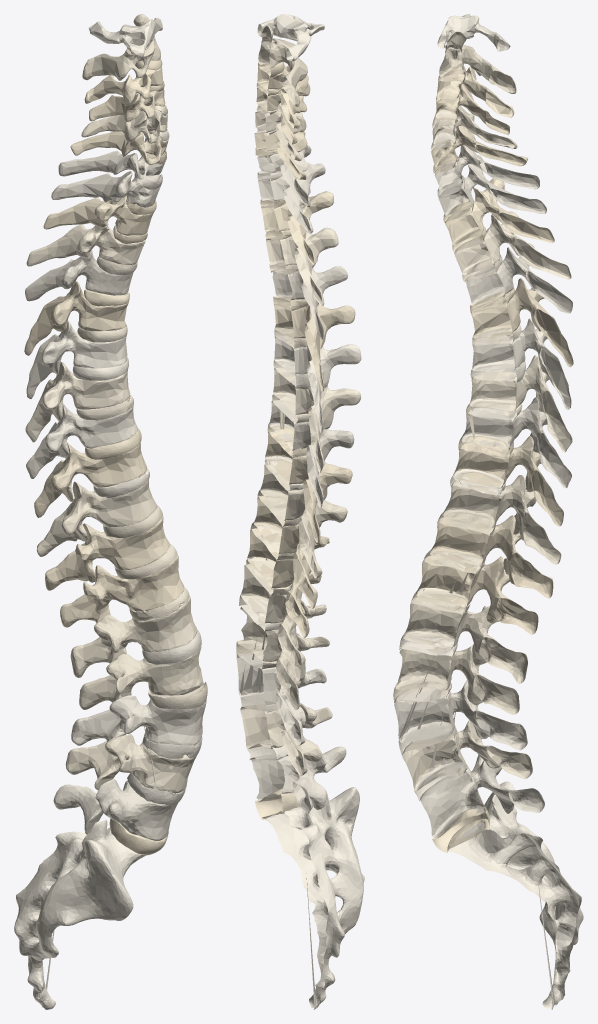
File: colonna_vertebrale_interno.glb
The picture shows the model from 3 angles, left to right: view 1: azimuth 90°, elevation 25°; view 2: azimuth 210°, elevation 25°; view 3: azimuth 270°, elevation 25°; orthographic projection. The views are drawn at different scales.
Parts seen in each view (by area): view 1: posterior part of pelvis, third lumbar vertebra, fourth lumbar vertebra, first lumbar vertebra, fifth lumbar vertebra, twelfth thoracic vertebra, eleventh thoracic vertebra, second lumbar vertebra, tenth thoracic vertebra, ninth thoracic vertebra, seventh thoracic vertebra, eighth thoracic vertebra (+27 smaller); view 2: posterior part of pelvis, fifth lumbar vertebra, fourth lumbar vertebra, first lumbar vertebra, seventh thoracic vertebra, tenth thoracic vertebra, third lumbar vertebra, ninth thoracic vertebra, fifth thoracic vertebra, sixth thoracic vertebra, eighth thoracic vertebra, second lumbar vertebra (+26 smaller); view 3: posterior part of pelvis, first lumbar vertebra, twelfth thoracic vertebra, eleventh thoracic vertebra, third lumbar vertebra, tenth thoracic vertebra, fifth lumbar vertebra, second lumbar vertebra, fourth lumbar vertebra, ninth thoracic vertebra, seventh thoracic vertebra, eighth thoracic vertebra (+27 smaller).
Part boxes in pixels (x1=…): posterior part of pelvis: x1=14, y1=820, x2=146, y2=1009; third lumbar vertebra: x1=71, y1=695, x2=206, y2=745; fourth lumbar vertebra: x1=65, y1=734, x2=197, y2=793; first lumbar vertebra: x1=70, y1=597, x2=197, y2=677; fifth lumbar vertebra: x1=53, y1=779, x2=177, y2=840; twelfth thoracic vertebra: x1=60, y1=555, x2=184, y2=627; eleventh thoracic vertebra: x1=45, y1=516, x2=170, y2=590; second lumbar vertebra: x1=79, y1=646, x2=203, y2=709; tenth thoracic vertebra: x1=36, y1=479, x2=157, y2=556; ninth thoracic vertebra: x1=34, y1=443, x2=146, y2=517; seventh thoracic vertebra: x1=25, y1=362, x2=130, y2=442; eighth thoracic vertebra: x1=26, y1=402, x2=137, y2=478; posterior part of pelvis: x1=264, y1=787, x2=364, y2=1009; fifth lumbar vertebra: x1=251, y1=746, x2=346, y2=813; fourth lumbar vertebra: x1=240, y1=703, x2=332, y2=776; first lumbar vertebra: x1=241, y1=564, x2=326, y2=681; seventh thoracic vertebra: x1=273, y1=368, x2=361, y2=472; tenth thoracic vertebra: x1=260, y1=464, x2=347, y2=578; third lumbar vertebra: x1=236, y1=654, x2=326, y2=746; ninth thoracic vertebra: x1=265, y1=432, x2=352, y2=542; fifth thoracic vertebra: x1=274, y1=302, x2=355, y2=391; sixth thoracic vertebra: x1=274, y1=336, x2=361, y2=432; eighth thoracic vertebra: x1=269, y1=400, x2=354, y2=507; second lumbar vertebra: x1=240, y1=607, x2=329, y2=709; posterior part of pelvis: x1=448, y1=781, x2=583, y2=1009; first lumbar vertebra: x1=403, y1=597, x2=527, y2=683; twelfth thoracic vertebra: x1=416, y1=555, x2=538, y2=634; eleventh thoracic vertebra: x1=430, y1=515, x2=553, y2=598; third lumbar vertebra: x1=394, y1=680, x2=527, y2=750; tenth thoracic vertebra: x1=443, y1=475, x2=561, y2=564; fifth lumbar vertebra: x1=420, y1=755, x2=544, y2=837; second lumbar vertebra: x1=396, y1=645, x2=519, y2=714; fourth lumbar vertebra: x1=402, y1=720, x2=532, y2=790; ninth thoracic vertebra: x1=453, y1=436, x2=563, y2=526; seventh thoracic vertebra: x1=469, y1=355, x2=572, y2=452; eighth thoracic vertebra: x1=461, y1=397, x2=571, y2=488.
Bounding box in the file's own units: 58.25 × 698 × 122.
